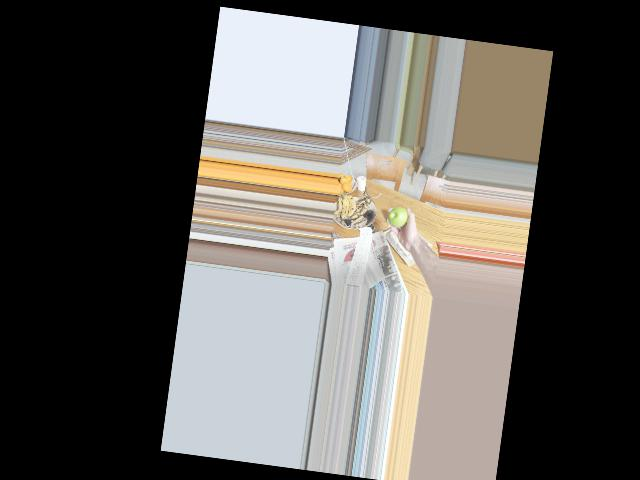apple: (387, 205, 408, 229)
